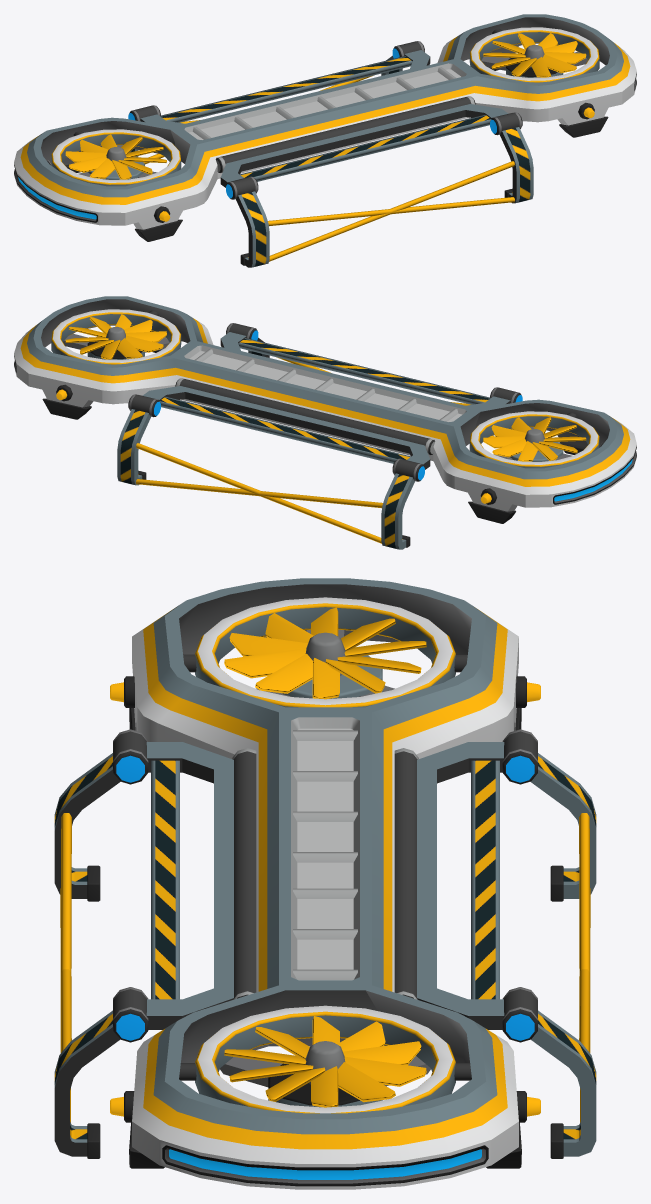
Rendered from Cargo_drone_005.glb.
3 renders of one model, top to bottom at view 1: azimuth 30°, elevation 25°; view 2: azimuth 150°, elevation 25°; view 3: azimuth 270°, elevation 25°, orthographic. The views are drawn at different scales.
Parts seen in each view (by area): view 1: Cargo_drone_005, Cargo_drone_005_grab_003, Cargo_drone_005_propeller_002, Cargo_drone_005_propeller_001; view 2: Cargo_drone_005, Cargo_drone_005_grab_004, Cargo_drone_005_propeller_001, Cargo_drone_005_propeller_002; view 3: Cargo_drone_005, Cargo_drone_005_grab_003, Cargo_drone_005_grab_004, Cargo_drone_005_propeller_002, Cargo_drone_005_propeller_001.
Boxes of the visible parts, box(x1,y1,x2,y2) form: Cargo_drone_005: box(14, 14, 636, 241); Cargo_drone_005_grab_003: box(236, 127, 533, 267); Cargo_drone_005_propeller_002: box(483, 33, 586, 77); Cargo_drone_005_propeller_001: box(65, 134, 166, 179); Cargo_drone_005: box(14, 296, 636, 523); Cargo_drone_005_grab_004: box(117, 409, 414, 549); Cargo_drone_005_propeller_001: box(483, 417, 586, 461); Cargo_drone_005_propeller_002: box(65, 314, 166, 359); Cargo_drone_005: box(110, 578, 540, 1189); Cargo_drone_005_grab_003: box(54, 753, 120, 1158); Cargo_drone_005_grab_004: box(530, 753, 596, 1158); Cargo_drone_005_propeller_002: box(224, 1016, 426, 1107); Cargo_drone_005_propeller_001: box(224, 607, 426, 699).
Size of the model in its own units: 7.03 by 1.04 by 2.82.
3 materials, 2 textured.
